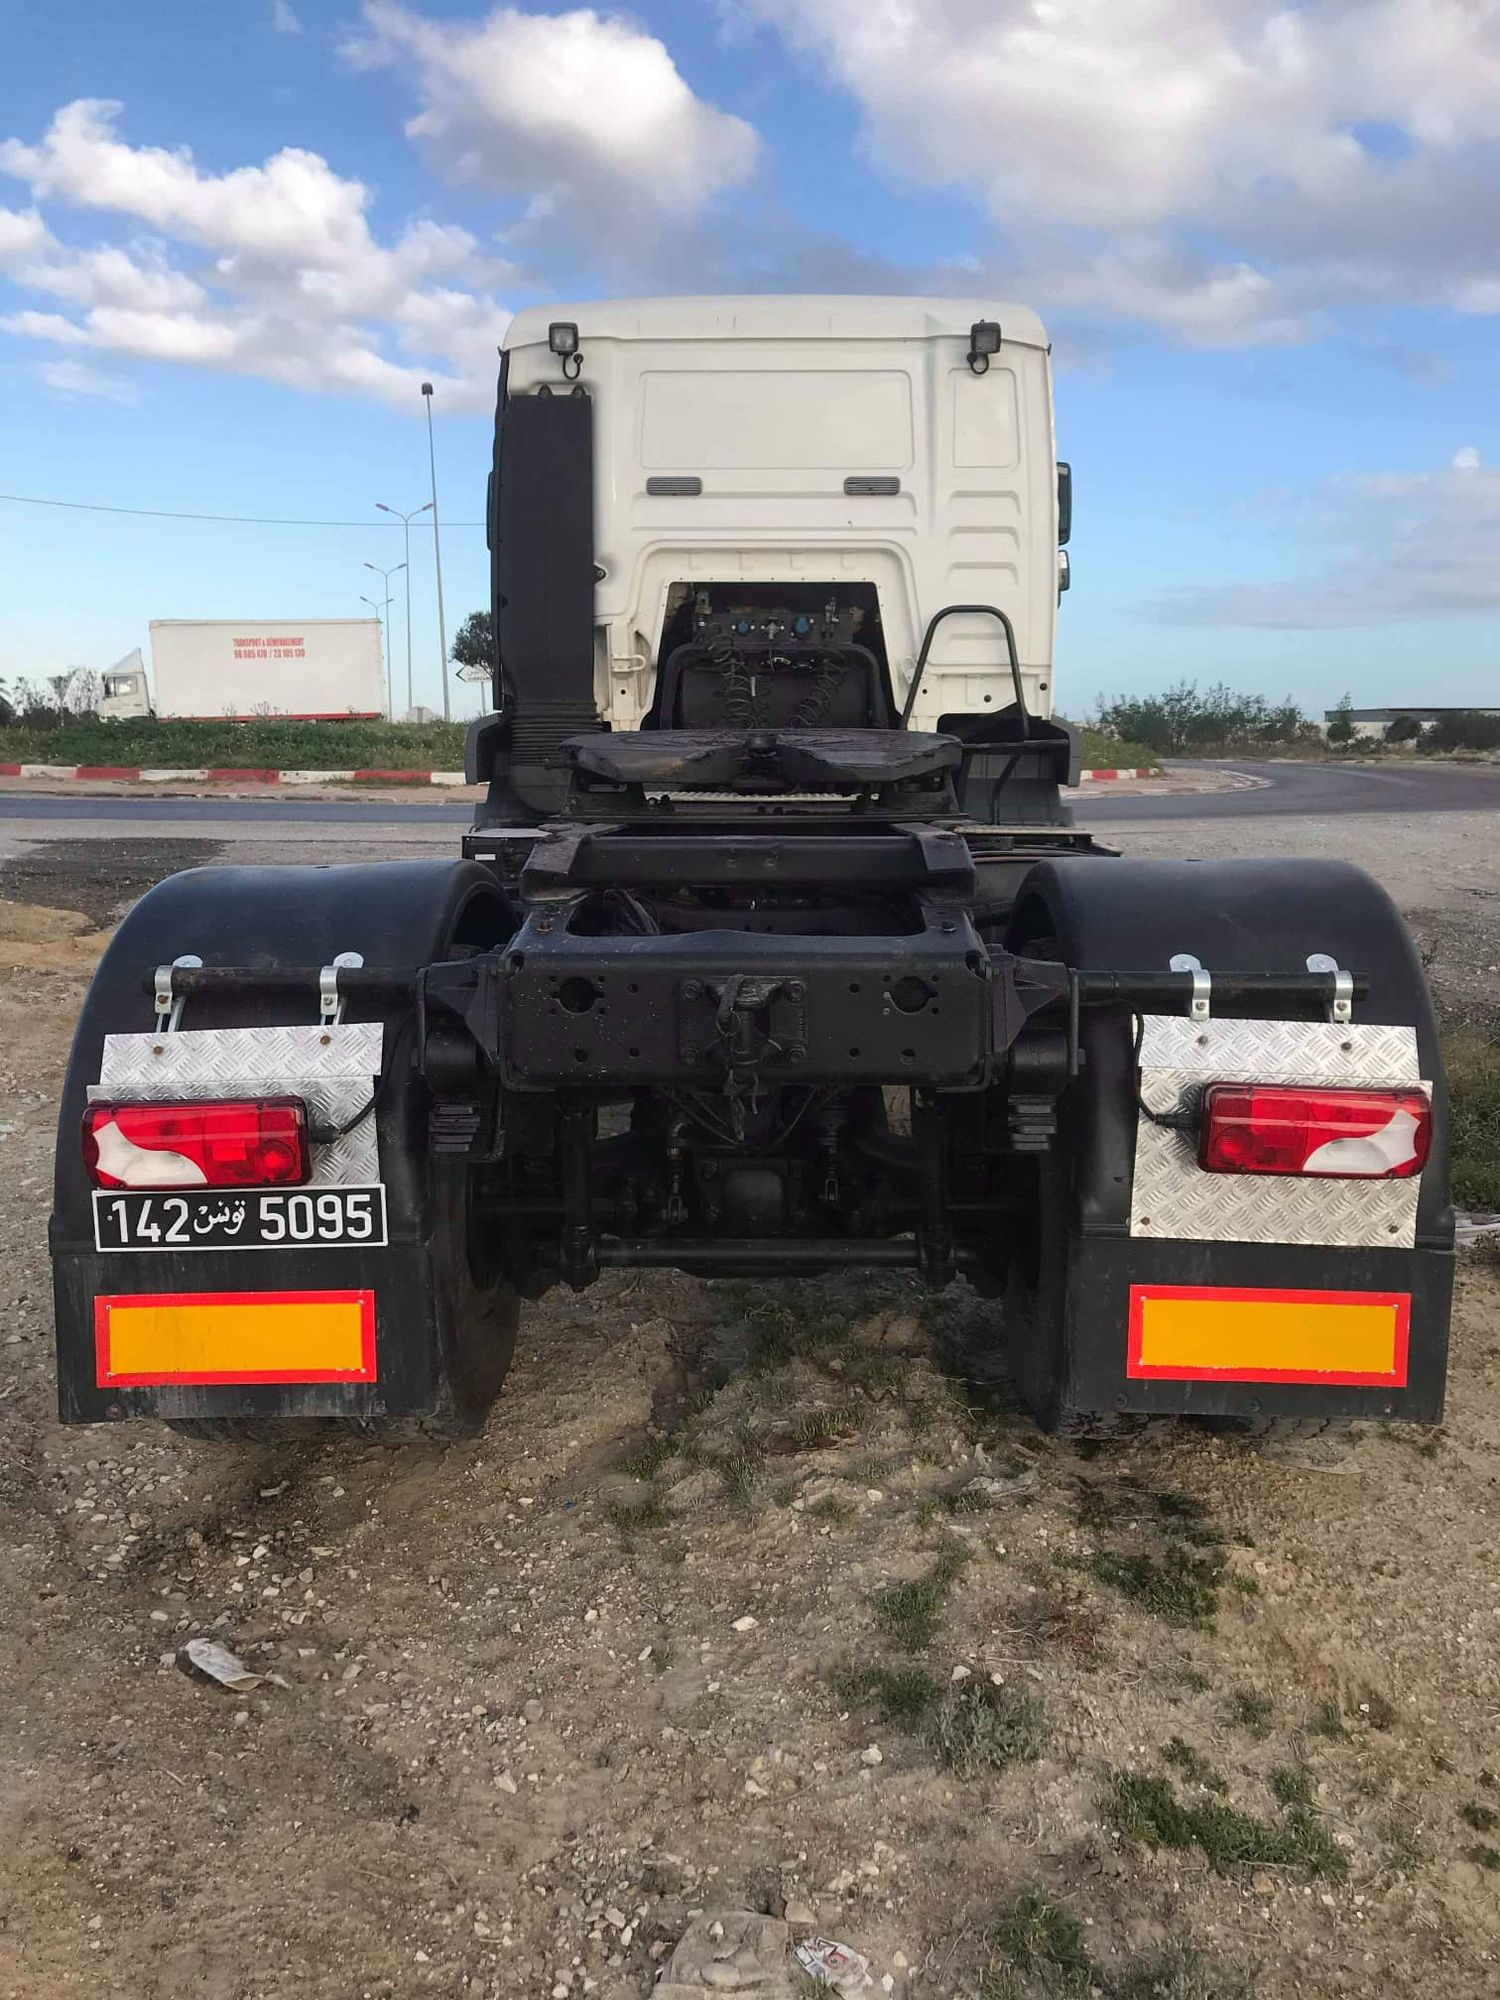LP: (88, 1184, 394, 1256)
